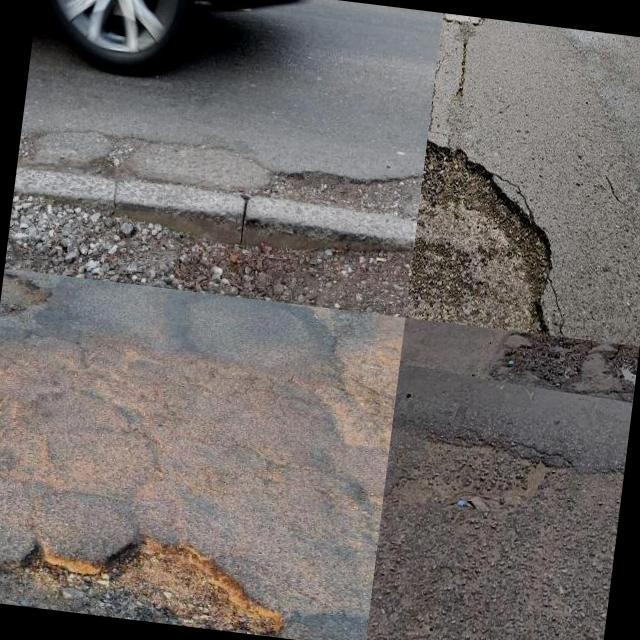Pothole: (4, 192, 414, 317), (405, 143, 552, 334), (0, 542, 279, 637), (250, 169, 423, 216), (501, 332, 594, 388), (608, 344, 639, 390)
